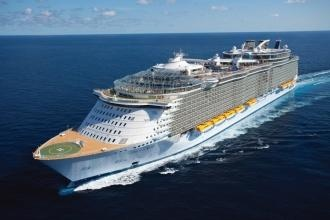youlun: (22, 35, 299, 185)
